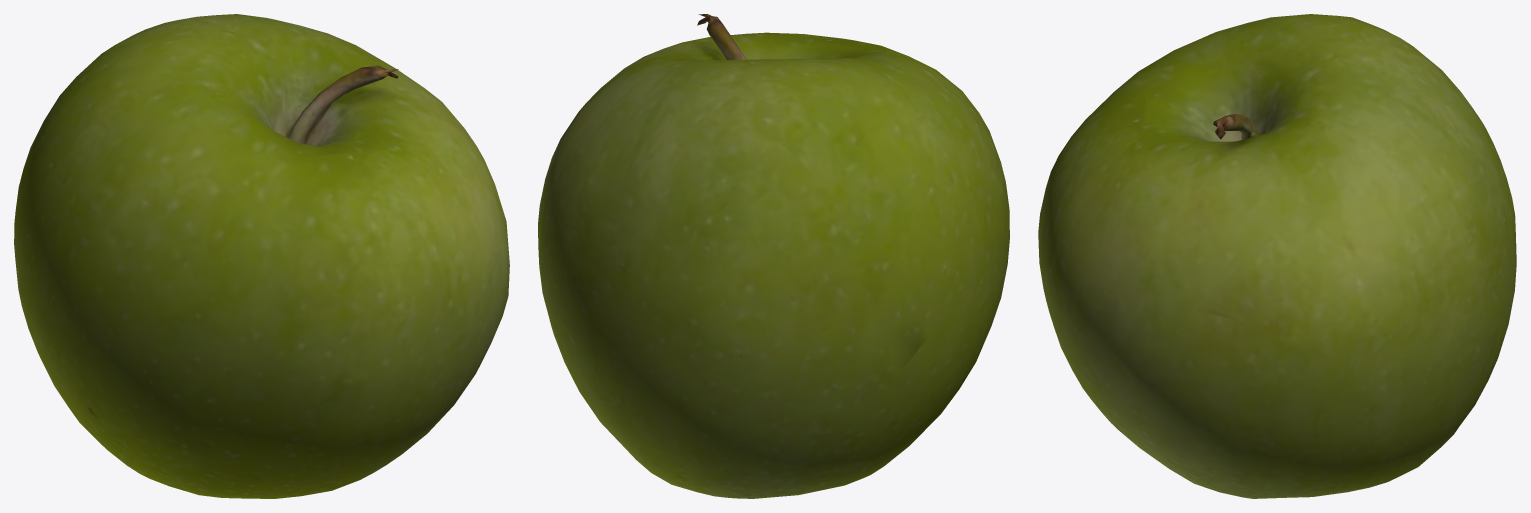
Rendered from apple_b.glb.
3 views of the same model, side by side, from view 1: azimuth 30°, elevation 25°; view 2: azimuth 150°, elevation 25°; view 3: azimuth 270°, elevation 25° (orthographic). The views are drawn at different scales.
Parts seen in each view (by area): view 1: tefadiqla_LOD0_TIER2_000; view 2: tefadiqla_LOD0_TIER2_000; view 3: tefadiqla_LOD0_TIER2_000.
Boxes of the visible parts, left/top/right/bottom form: tefadiqla_LOD0_TIER2_000: left=14, top=14, right=509, bottom=498; tefadiqla_LOD0_TIER2_000: left=538, top=14, right=1009, bottom=498; tefadiqla_LOD0_TIER2_000: left=1038, top=14, right=1516, bottom=498.
Size of the model in its own units: 0.0883 by 0.0852 by 0.0901.
1 material, 1 textured.
